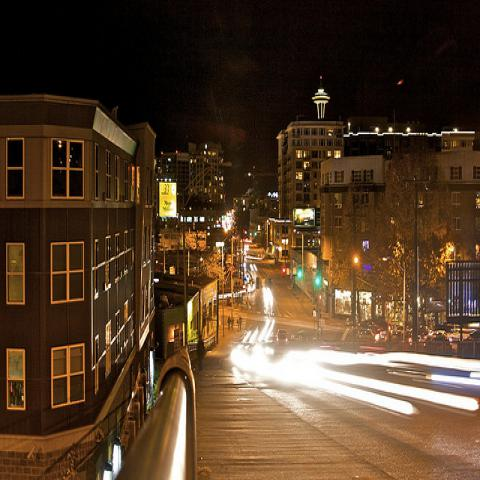car: (358, 329, 380, 346), (430, 329, 452, 345), (276, 328, 290, 347), (362, 320, 380, 333), (467, 330, 479, 341)
